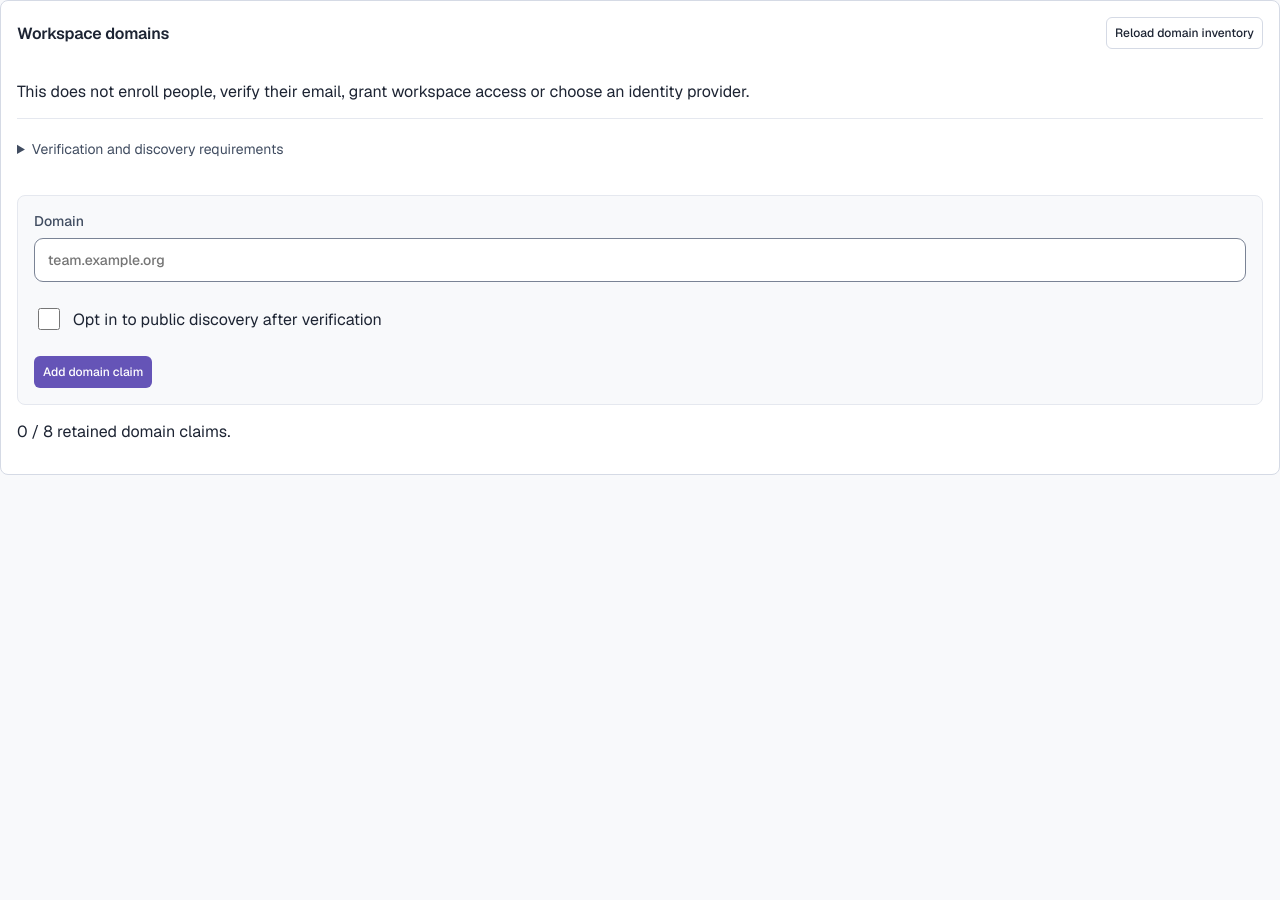
Test: Workspace domain administration › defaults creation to discovery off and consumes verified TXT without granting access
This screenshot has width=1280, height=900.
Expected: the text "0 / 8 retained domain claims." is shown, [17, 421, 230, 442]
Type "TEAM.EXAMPLE.ORG." into the field labelled "Domain" at (640, 260), box [34, 238, 1246, 282]
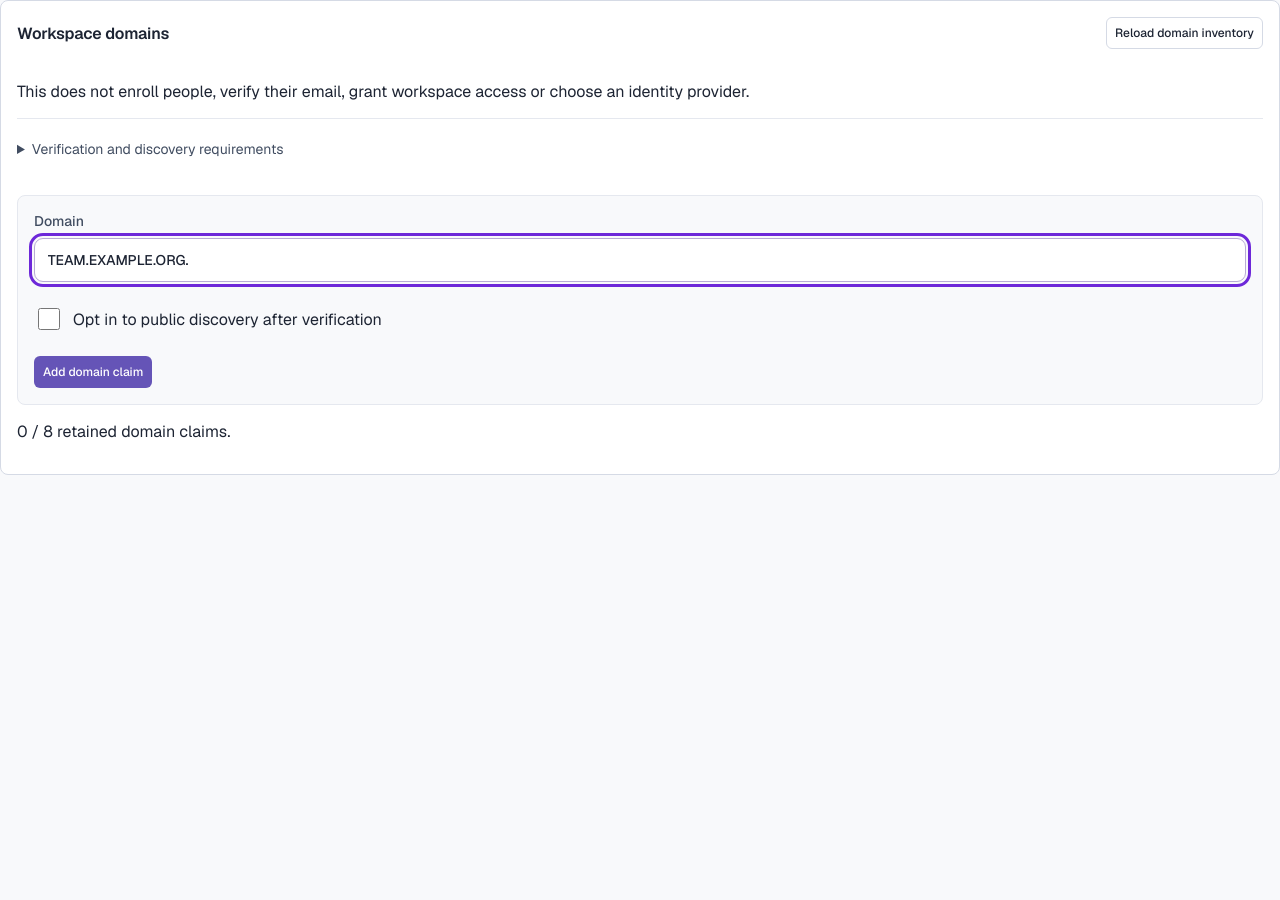
Click the button "Add domain claim" at (93, 372), box [34, 356, 152, 388]
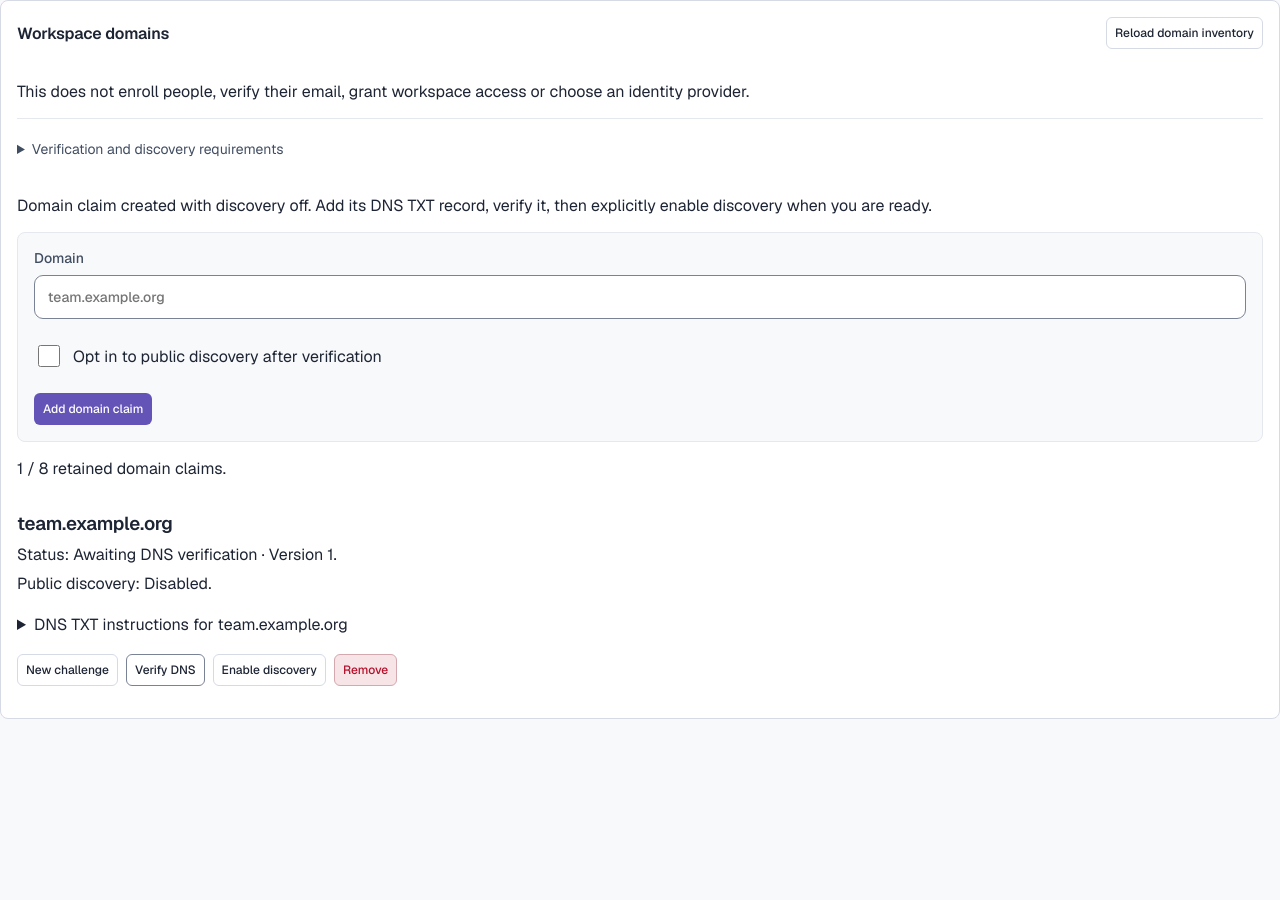
Click the heading "DNS TXT instructions for team.example.org" at (191, 624), box [34, 614, 348, 634]
(page scrolled)
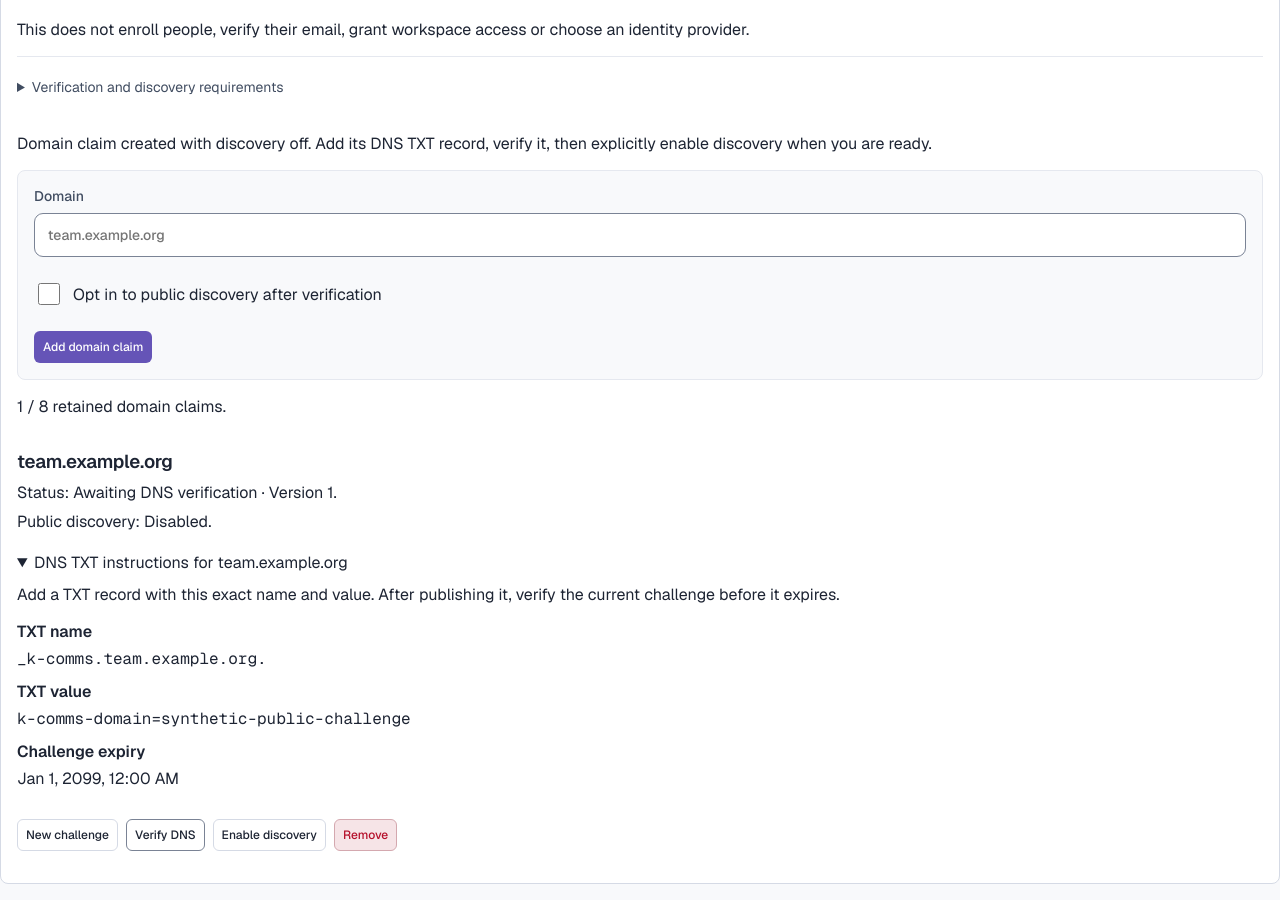
Result: the text "k-comms-domain=synthetic-public-challenge" is shown at [17, 708, 411, 729]
Click the button with aria-label "Verify DNS for team.example.org" at (165, 835), box [126, 819, 205, 851]
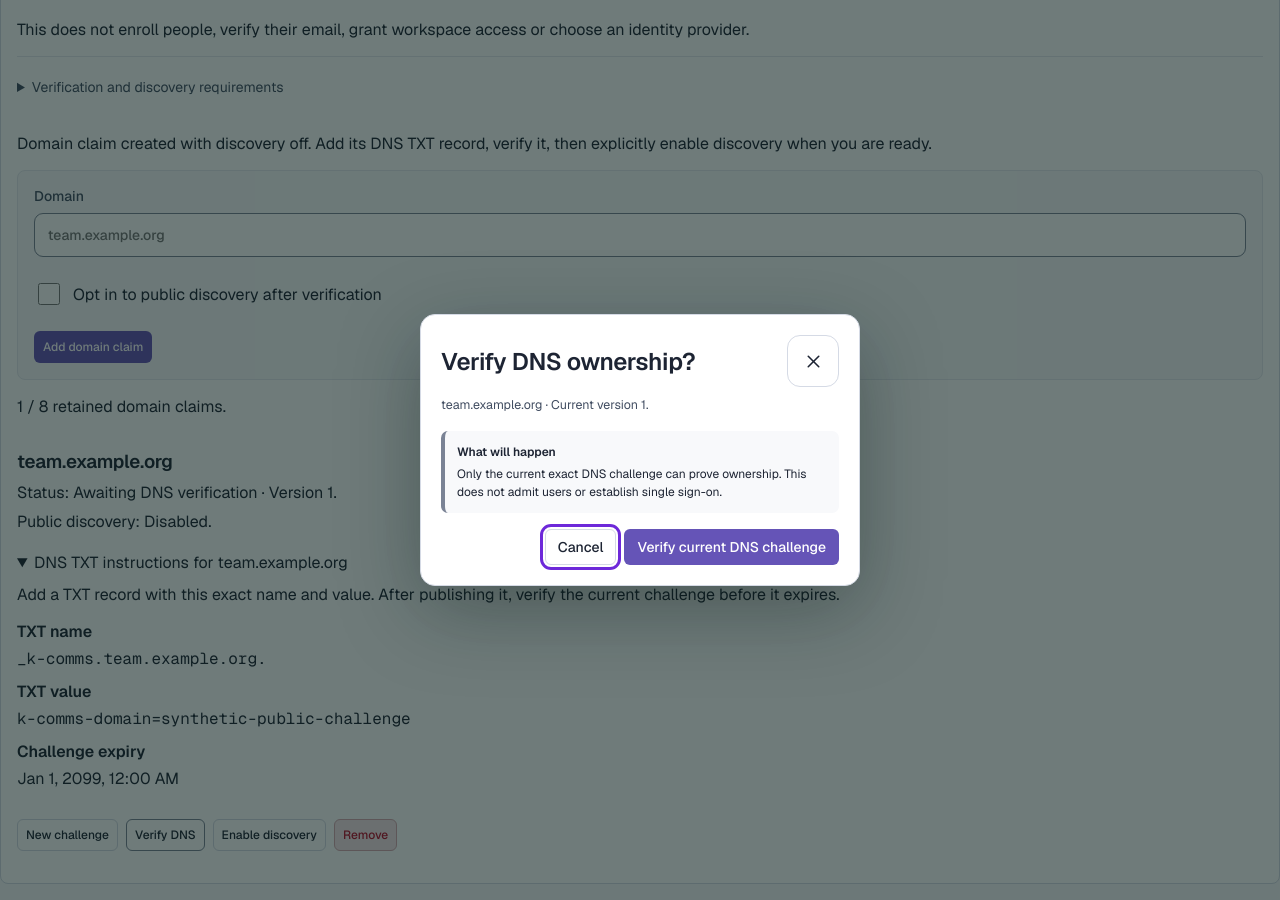
Click the button "Verify current DNS challenge" at (732, 547), box [624, 529, 839, 565]
(page scrolled)
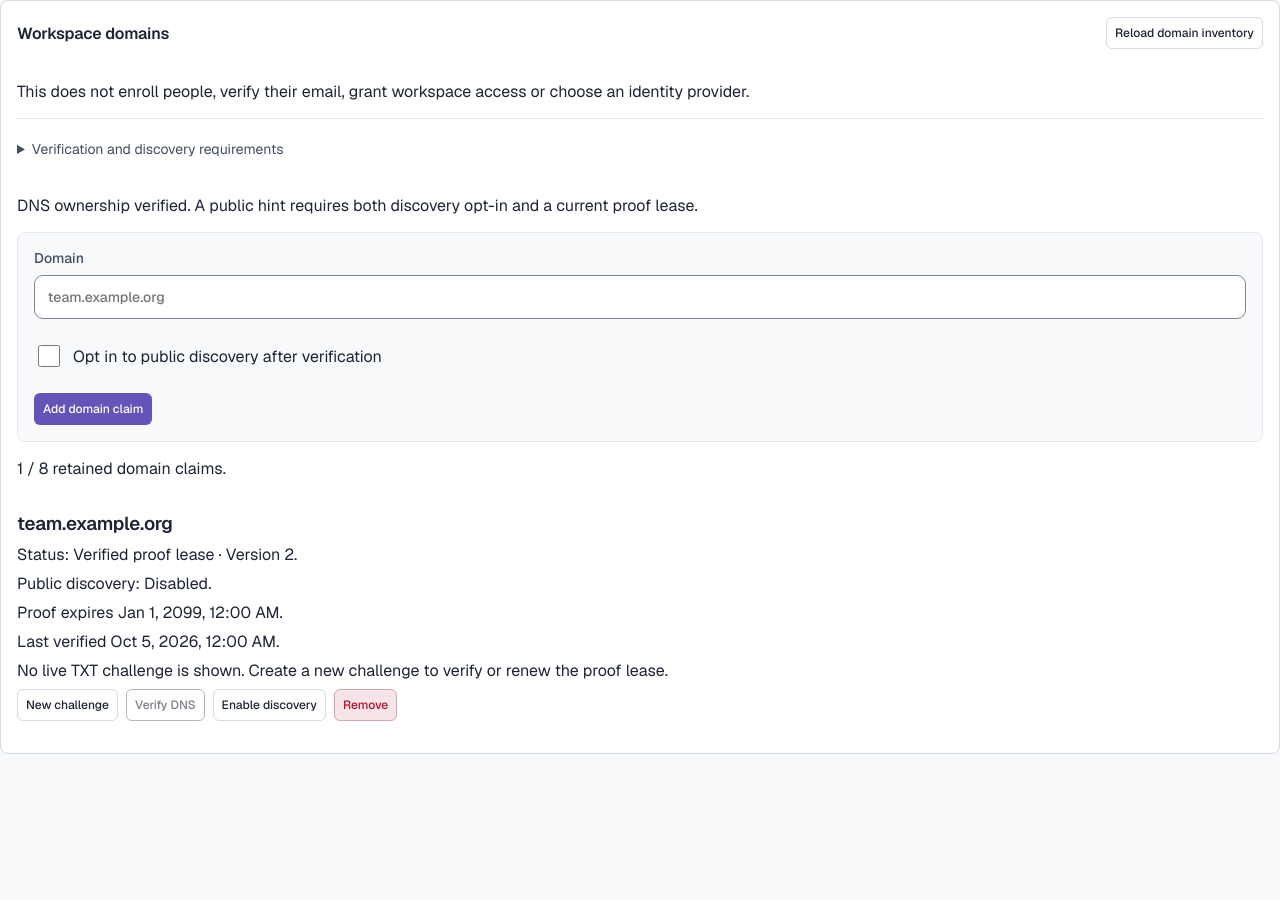
Result: the text "Public discovery: Disabled." is shown at [17, 573, 211, 594]
Result: the text "Status: Verified proof lease · Version 2." is shown at [17, 544, 297, 565]
Result: the text "k-comms-domain=synthetic-public-challenge" is gone
